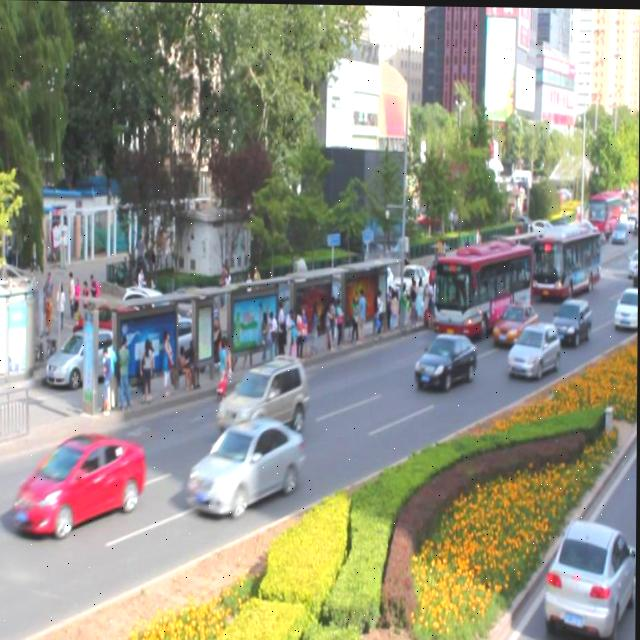car: (14, 432, 145, 536), (188, 417, 304, 516), (217, 354, 308, 435), (414, 330, 476, 389), (506, 320, 558, 378), (493, 299, 538, 347), (550, 296, 590, 345), (612, 284, 638, 330)
van: (433, 238, 532, 337), (526, 214, 596, 294)
